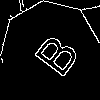B: (25, 25, 82, 79)
